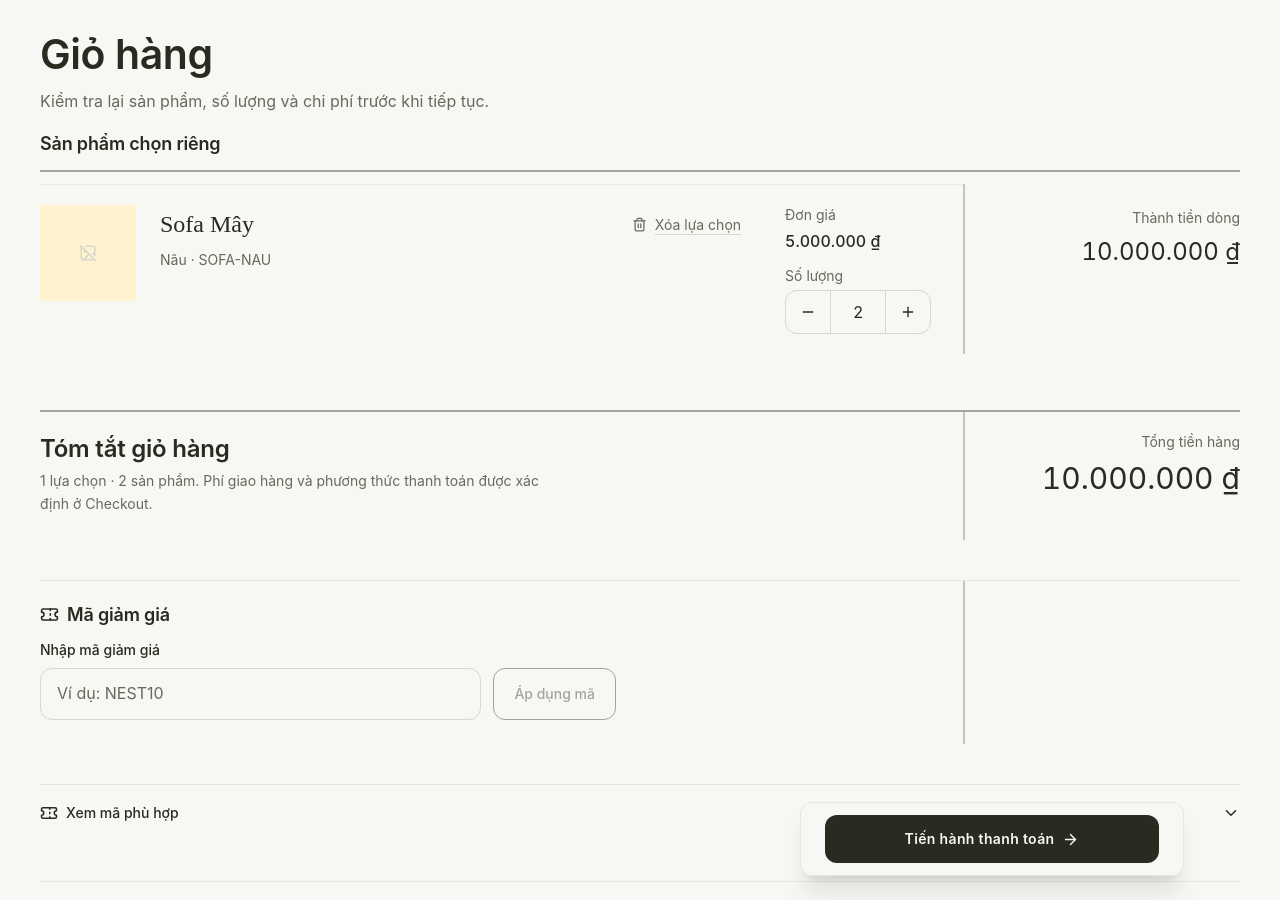
it: CartPage › shows an inline message and clamps quantity on insufficient stock
Expected: the link "Sofa Mây" is shown, [160,208,254,241]
Click the button named "Tăng số lượng".
click(908, 312)  # box [886,290,930,334]
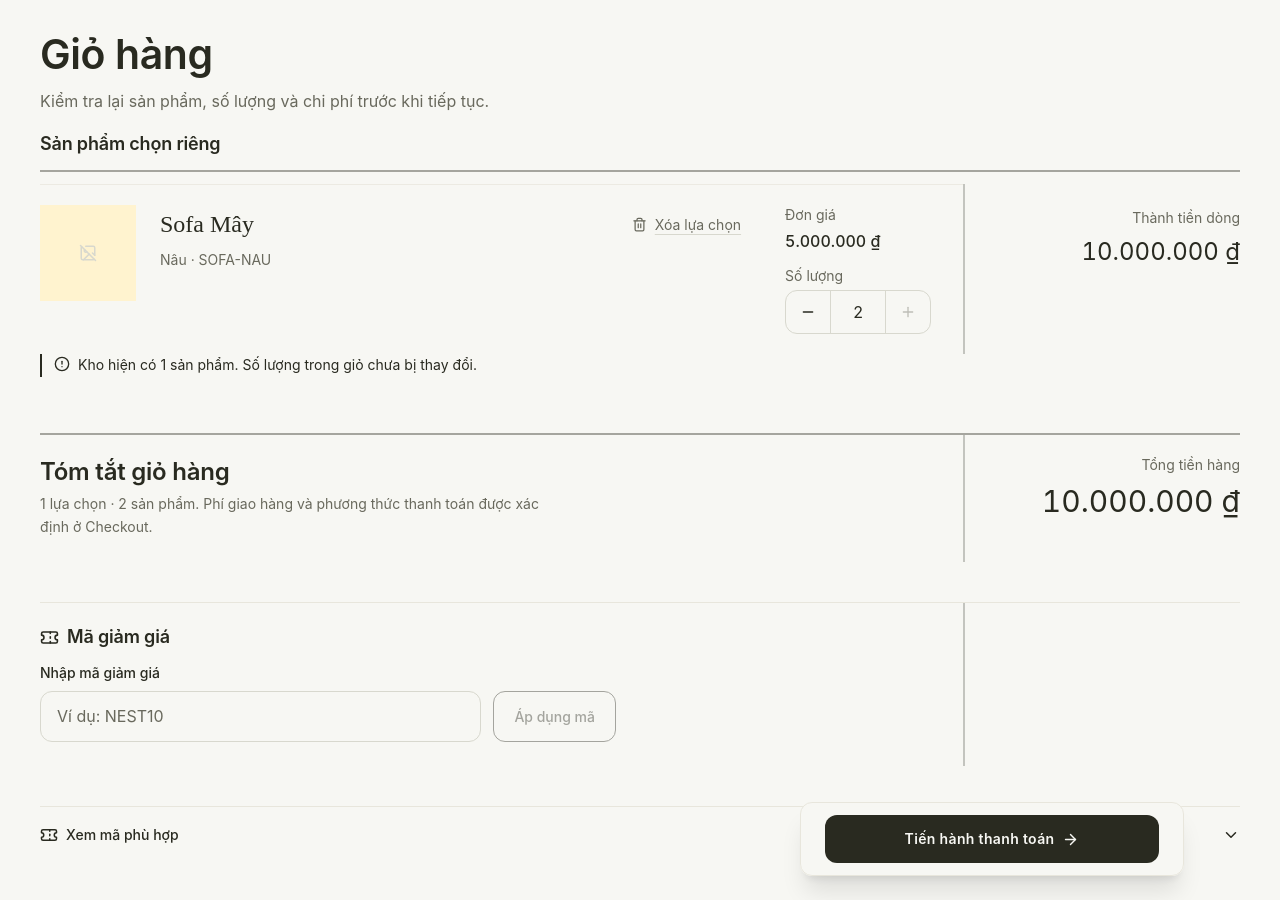
Expected: the number field labelled "Số lượng" holds "2", [830,290,886,334]
Result: the text "Kho hiện có 1 sản phẩm. Số lượng trong giỏ chưa bị thay đổi." is shown at [78,354,477,377]
